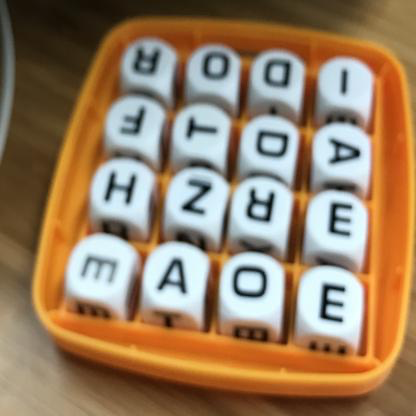a: (152, 245, 204, 308), (318, 126, 370, 182)
d: (245, 114, 298, 172), (257, 51, 301, 101)
e: (302, 269, 358, 340), (308, 193, 368, 257), (74, 236, 127, 302)
f: (110, 97, 158, 146)
h: (98, 159, 145, 219)
i: (326, 60, 370, 111)
o: (221, 253, 278, 312), (192, 44, 236, 93)
r: (238, 178, 290, 236), (126, 39, 173, 89)
t: (179, 106, 226, 158)
z: (172, 170, 225, 234)
